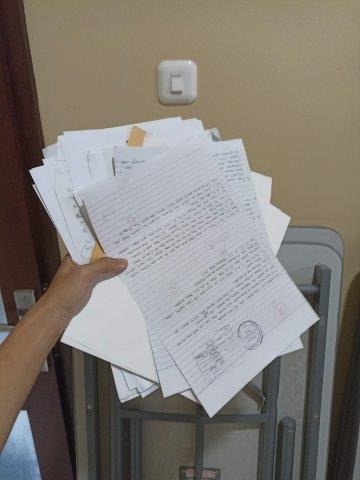kertas: (30, 115, 319, 417)
